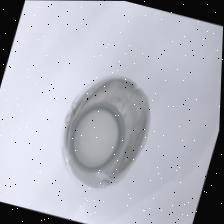plastic: (47, 64, 168, 201)
